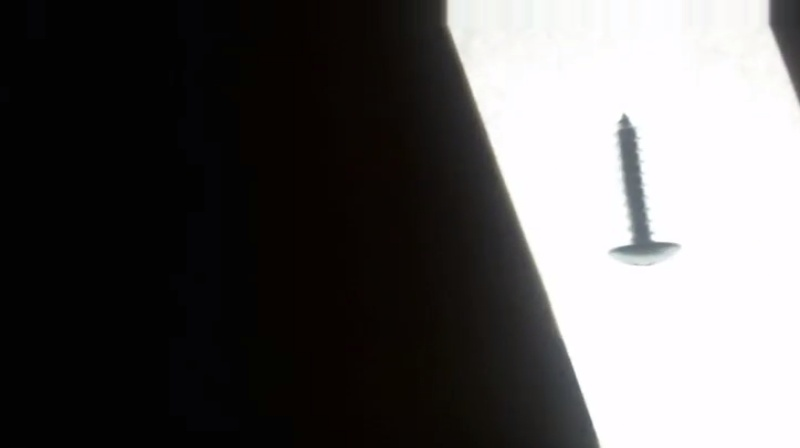S003: (603, 112, 684, 269)
